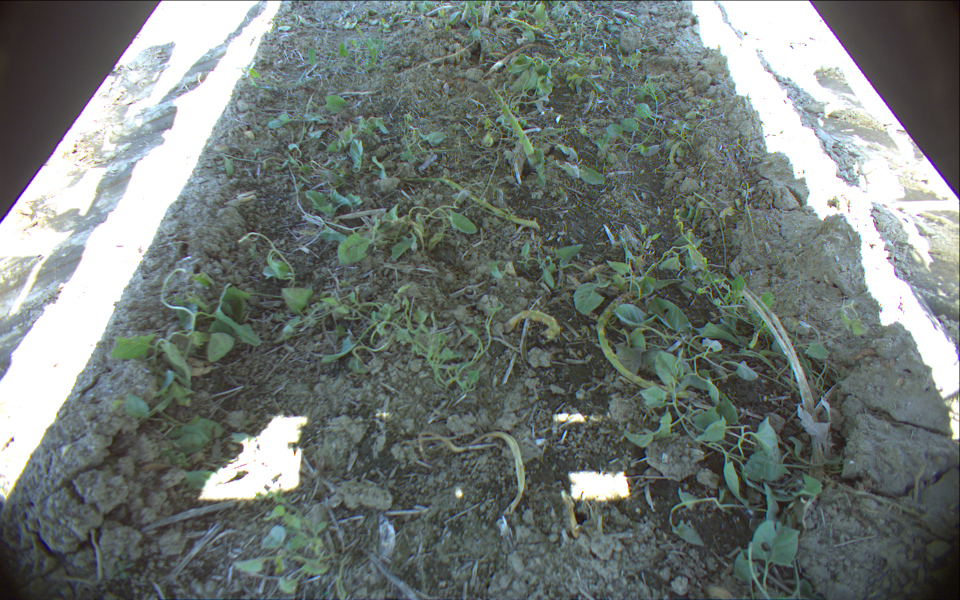aspa: (484, 84, 540, 170)
